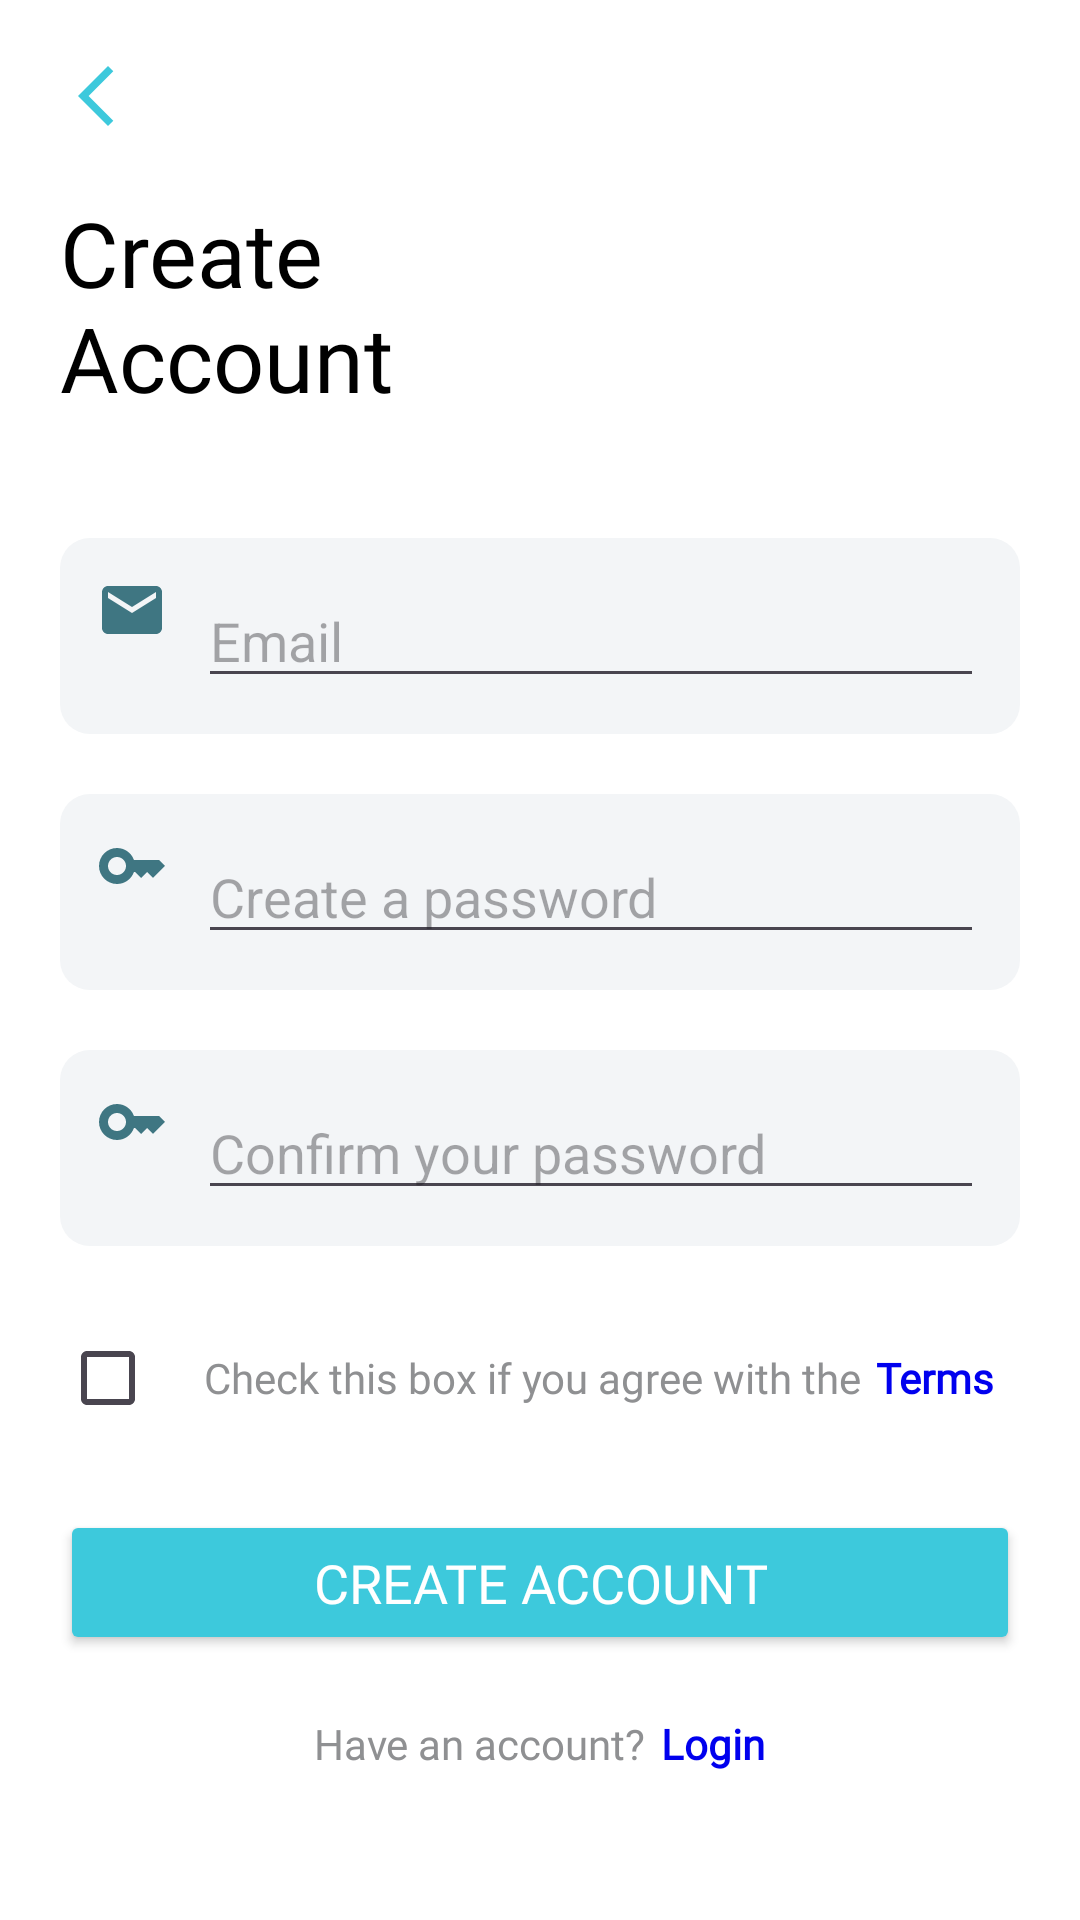

Where to tap for icons on this 1080 x 1920 app screen, as point (x, y):
Back Arrow: point (95, 96)
